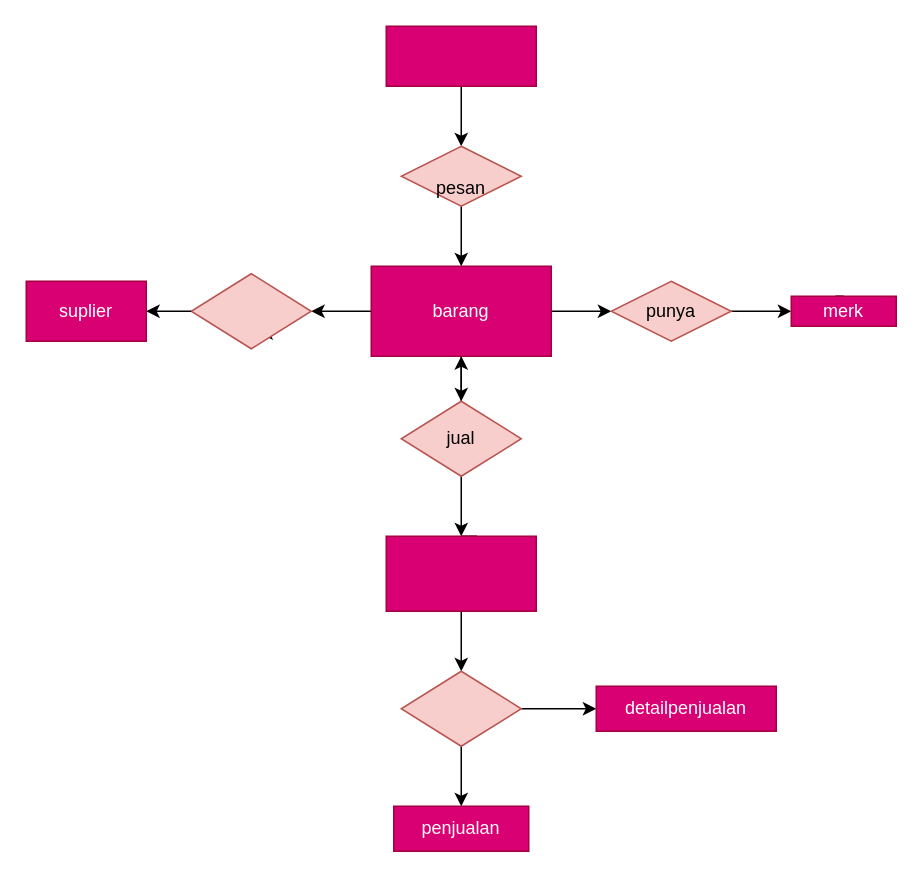
The diagram is 923 pixels wide and 878 high, and some of its shapes have lost their labels. Each missing label, with the centre of its shape:
"pelanggan" goes at (460,55).
"rekap" goes at (460,708).
"suplai" goes at (250,310).
"user" goes at (460,573).
